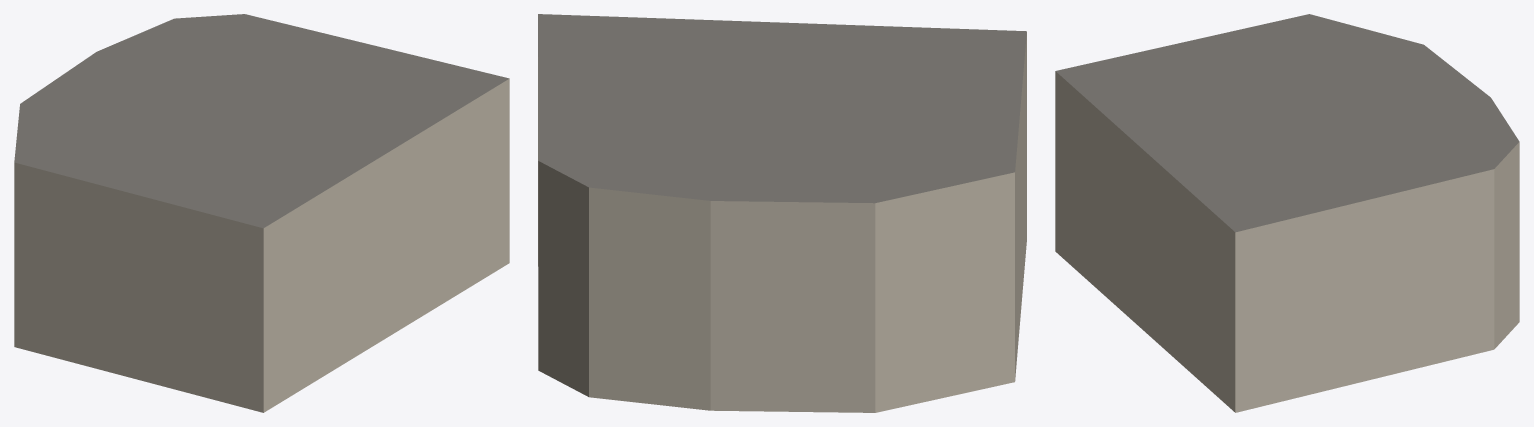
3 views of the same model, side by side, from view 1: azimuth 30°, elevation 25°; view 2: azimuth 150°, elevation 25°; view 3: azimuth 270°, elevation 25° (orthographic). The views are drawn at different scales.
Parts seen in each view (by area): view 1: HP-w373833568; view 2: HP-w373833568; view 3: HP-w373833568.
Boxes of the visible parts, x1,y1,x2,y2 form: HP-w373833568: (14, 14, 509, 412); HP-w373833568: (538, 14, 1026, 412); HP-w373833568: (1055, 14, 1519, 412).
Size of the model in its own units: 46.69 by 18 by 41.93.
